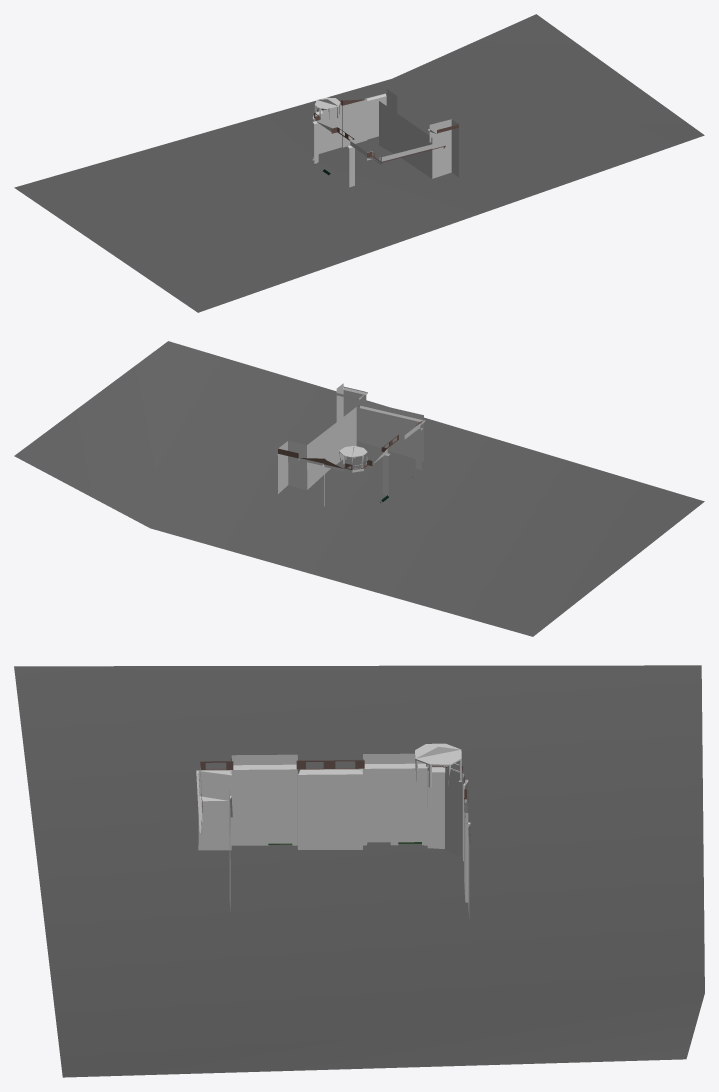
Rendered from 100-market-street.glb.
The picture shows the model from 3 angles, top to bottom: view 1: azimuth 30°, elevation 25°; view 2: azimuth 150°, elevation 25°; view 3: azimuth 270°, elevation 25°; orthographic projection. The views are drawn at different scales.
Visible parts, largest first — view 1: LOD0; view 2: LOD0; view 3: LOD0.
Part boxes in pixels (<box>): LOD0: <box>14,14,704,312</box>; LOD0: <box>14,341,704,636</box>; LOD0: <box>14,665,704,1077</box>.
Size of what is drawn, in the model's own units: 132 by 19.25 by 77.44.
2 materials, 2 textured.
